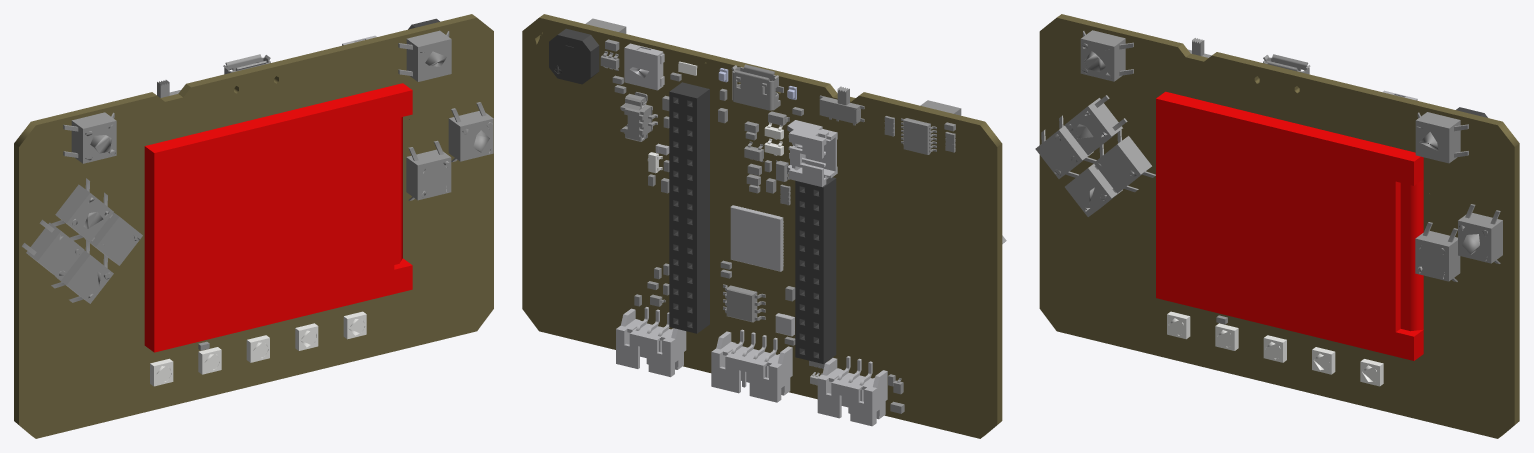
Rendered from ada-4200.glb.
3 views of the same model, side by side, from view 1: azimuth 30°, elevation 25°; view 2: azimuth 150°, elevation 25°; view 3: azimuth 330°, elevation 25° (orthographic).
Parts seen in each view (by area): view 1: 0.16666666666666666_0.16666666666666666_0.08333333333333333_, 1_0_0_0, 0.3333333333333333_0.3333333333333333_0.3333333333333333_0, 0.9166666666666666_0.9166666666666666_0.9166666666666666_0.8; view 2: 0.16666666666666666_0.16666666666666666_0.08333333333333333_, 0.08333333333333333_0.08333333333333333_0.08333333333333333_, 0.5833333333333334_0.5833333333333334_0.5833333333333334_0.8, 0.3333333333333333_0.3333333333333333_0.3333333333333333_0, 0.9166666666666666_0.9166666666666666_0.9166666666666666_0.8; view 3: 0.16666666666666666_0.16666666666666666_0.08333333333333333_, 1_0_0_0, 0.3333333333333333_0.3333333333333333_0.3333333333333333_0, 0.9166666666666666_0.9166666666666666_0.9166666666666666_0.8.
Part boxes in pixels (x1,y1,x2,y2): 0.16666666666666666_0.16666666666666666_0.08333333333333333_: [14, 14, 493, 438]; 1_0_0_0: [144, 83, 412, 352]; 0.3333333333333333_0.3333333333333333_0.3333333333333333_0: [22, 30, 493, 350]; 0.9166666666666666_0.9166666666666666_0.9166666666666666_0.8: [150, 311, 366, 386]; 0.16666666666666666_0.16666666666666666_0.08333333333333333_: [522, 14, 1002, 438]; 0.08333333333333333_0.08333333333333333_0.08333333333333333_: [549, 28, 836, 363]; 0.5833333333333334_0.5833333333333334_0.5833333333333334_0.8: [616, 43, 887, 426]; 0.3333333333333333_0.3333333333333333_0.3333333333333333_0: [585, 18, 1006, 413]; 0.9166666666666666_0.9166666666666666_0.9166666666666666_0.8: [647, 61, 783, 173]; 0.16666666666666666_0.16666666666666666_0.08333333333333333_: [1039, 14, 1519, 438]; 1_0_0_0: [1156, 91, 1423, 360]; 0.3333333333333333_0.3333333333333333_0.3333333333333333_0: [1035, 30, 1502, 324]; 0.9166666666666666_0.9166666666666666_0.9166666666666666_0.8: [1167, 311, 1383, 386].
Size of the model in its own units: 8.57 by 5.5 by 1.14.
